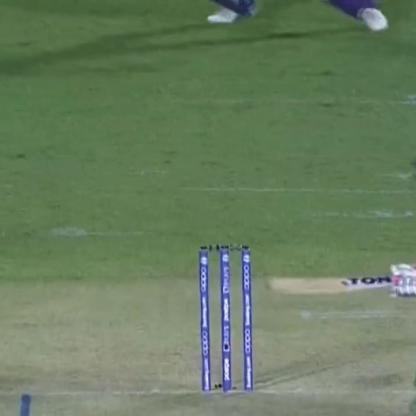bat: (265, 262, 413, 304)
